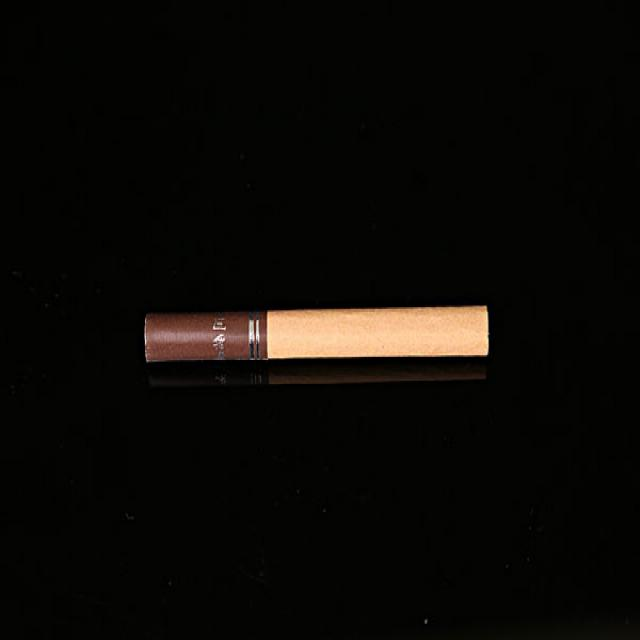smoking: (142, 298, 491, 371)
